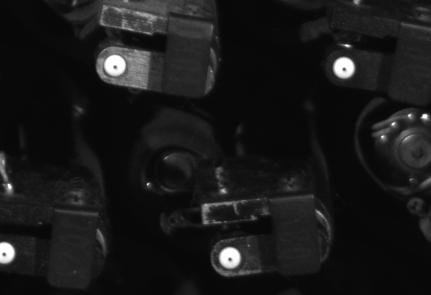fiber: (214, 242, 249, 277), (97, 50, 131, 82), (328, 51, 357, 84), (1, 233, 21, 272)
